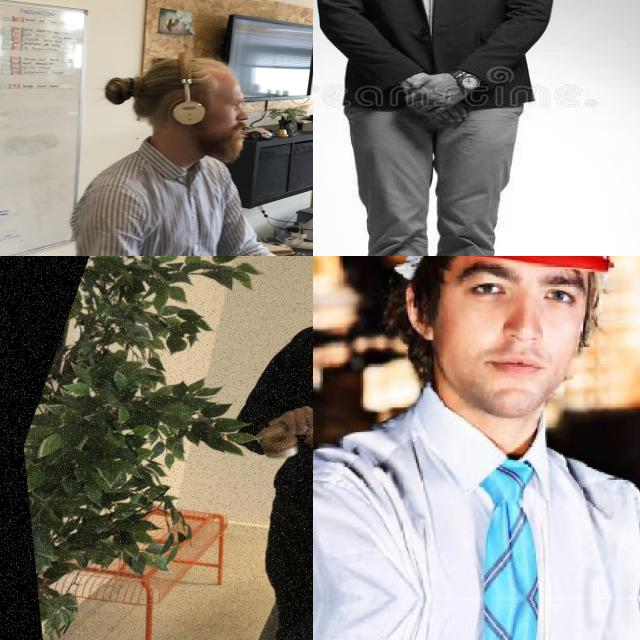Ear-protection: (134, 48, 252, 167)
No_Ear-Protection: (402, 287, 436, 340)
No_Glasses: (446, 256, 591, 316)
face_nomask: (443, 302, 581, 417)
hand_noglove: (398, 51, 475, 126)
person: (313, 0, 556, 256), (211, 256, 313, 640)
